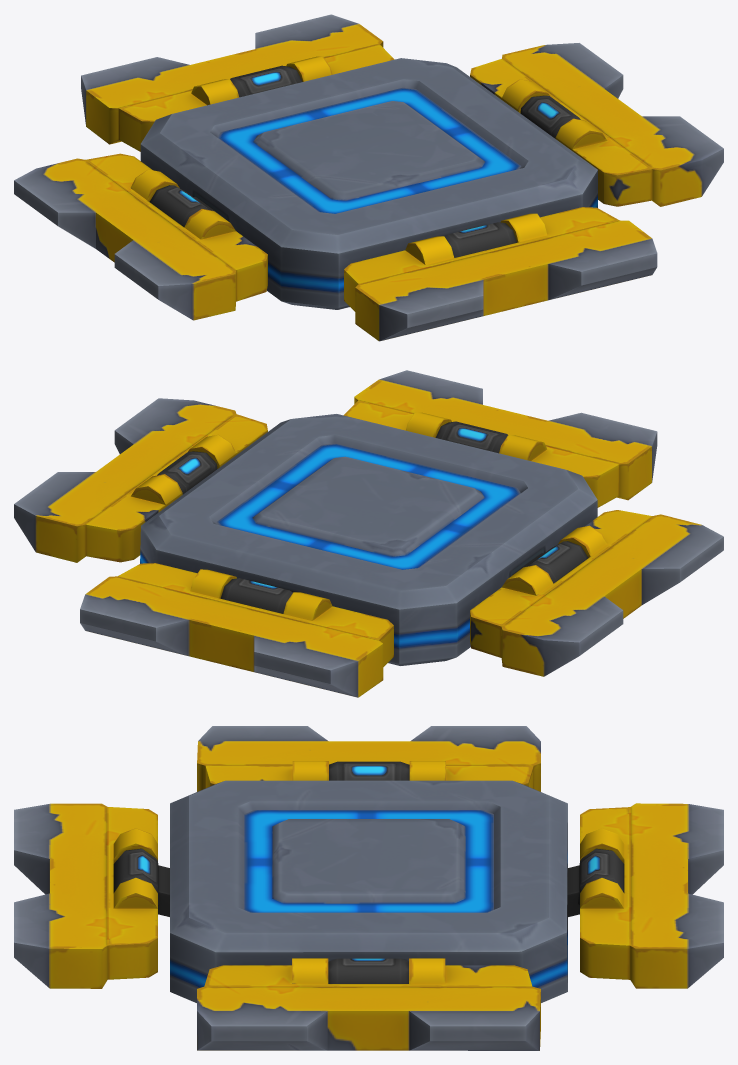
File: p_mesh_lift_top.fbx
3 renders of one model, top to bottom at view 1: azimuth 30°, elevation 25°; view 2: azimuth 150°, elevation 25°; view 3: azimuth 270°, elevation 25°, orthographic. The views are drawn at different scales.
Visible parts, largest first — view 1: Lift_ttop; view 2: Lift_ttop; view 3: Lift_ttop.
Part boxes in pixels (left/top/right/bottom): Lift_ttop: left=14, top=14, right=723, bottom=341; Lift_ttop: left=14, top=370, right=723, bottom=697; Lift_ttop: left=14, top=726, right=723, bottom=1050.
Size of the model in its own units: 3.94 by 0.6632 by 3.94.
